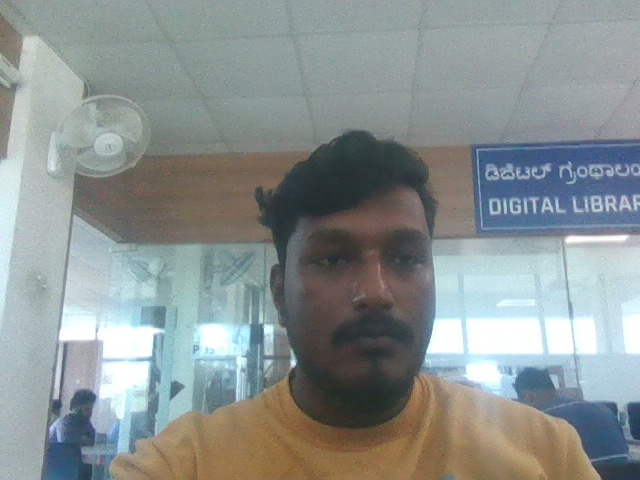real: (251, 115, 462, 414)
